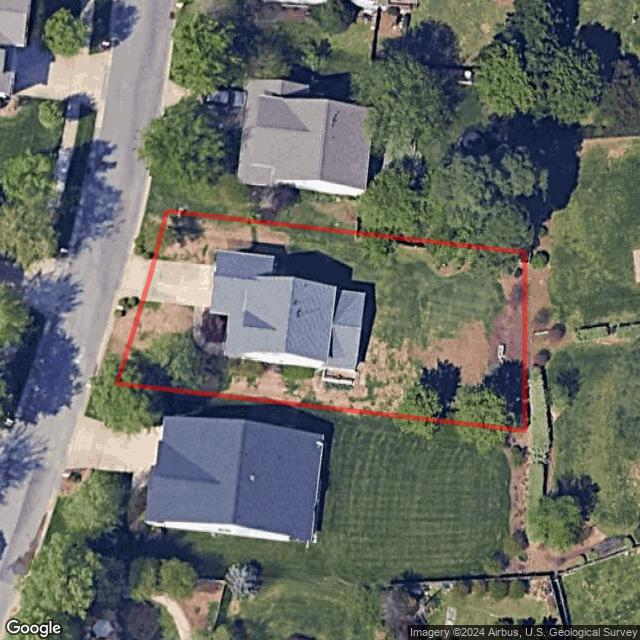Driveway: (140, 259, 215, 308)
Extra-Driveway: (116, 247, 156, 300)
Extra-Lawn: (97, 296, 144, 384), (132, 205, 168, 259)
House: (209, 249, 367, 375)
Lawn: (115, 209, 526, 431)
Other: (202, 307, 229, 342)
Sidewalk: (192, 309, 226, 355)
